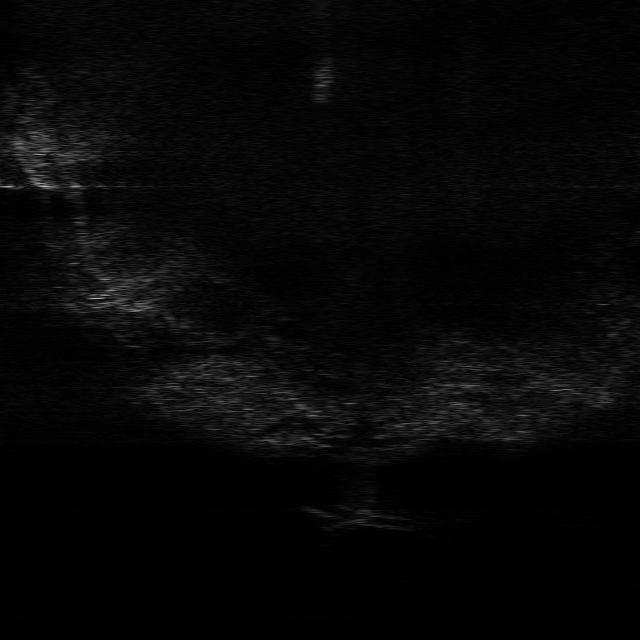plane: (300, 504, 410, 530)
